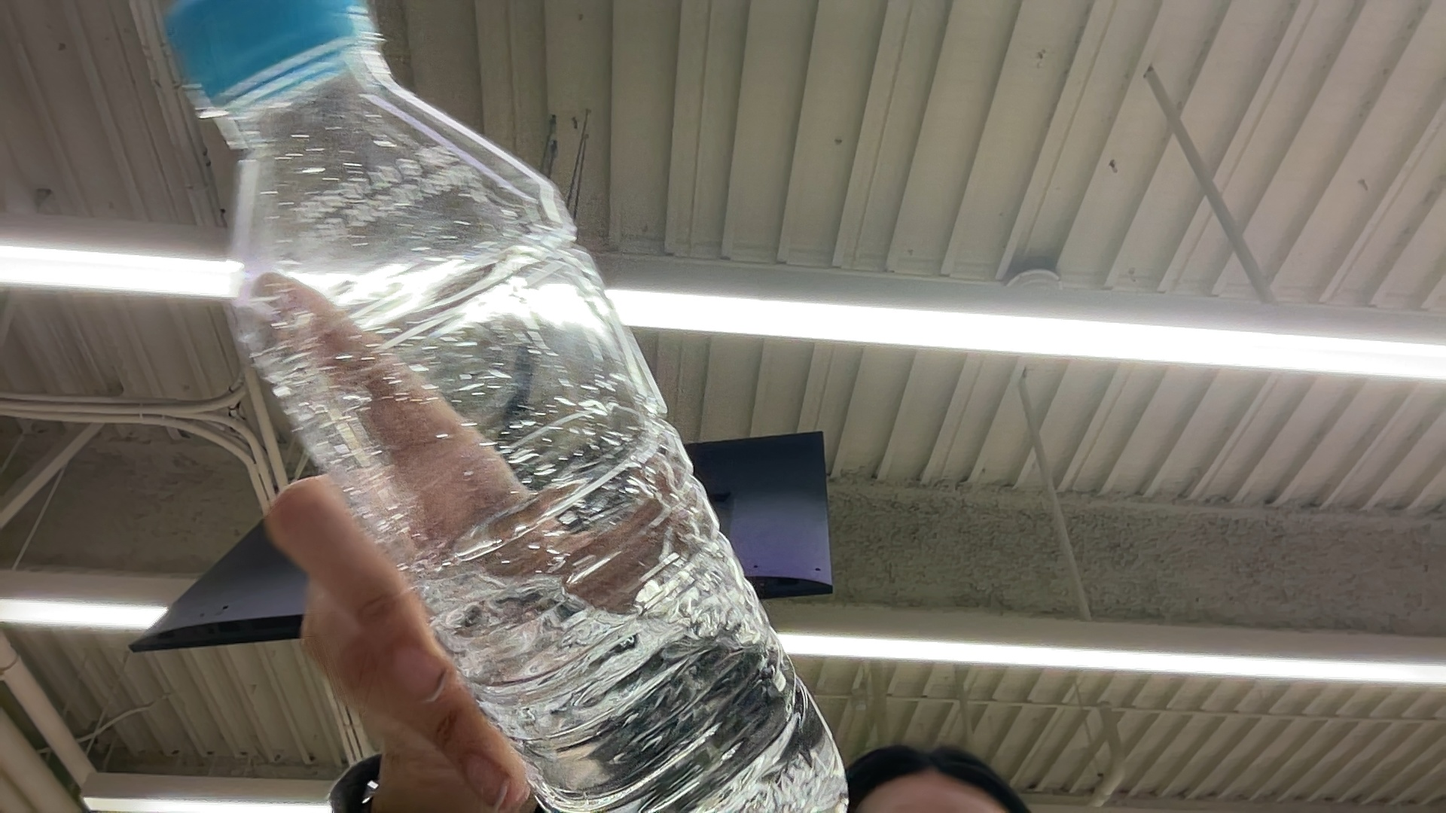Plastic: (3, 403, 269, 614)
